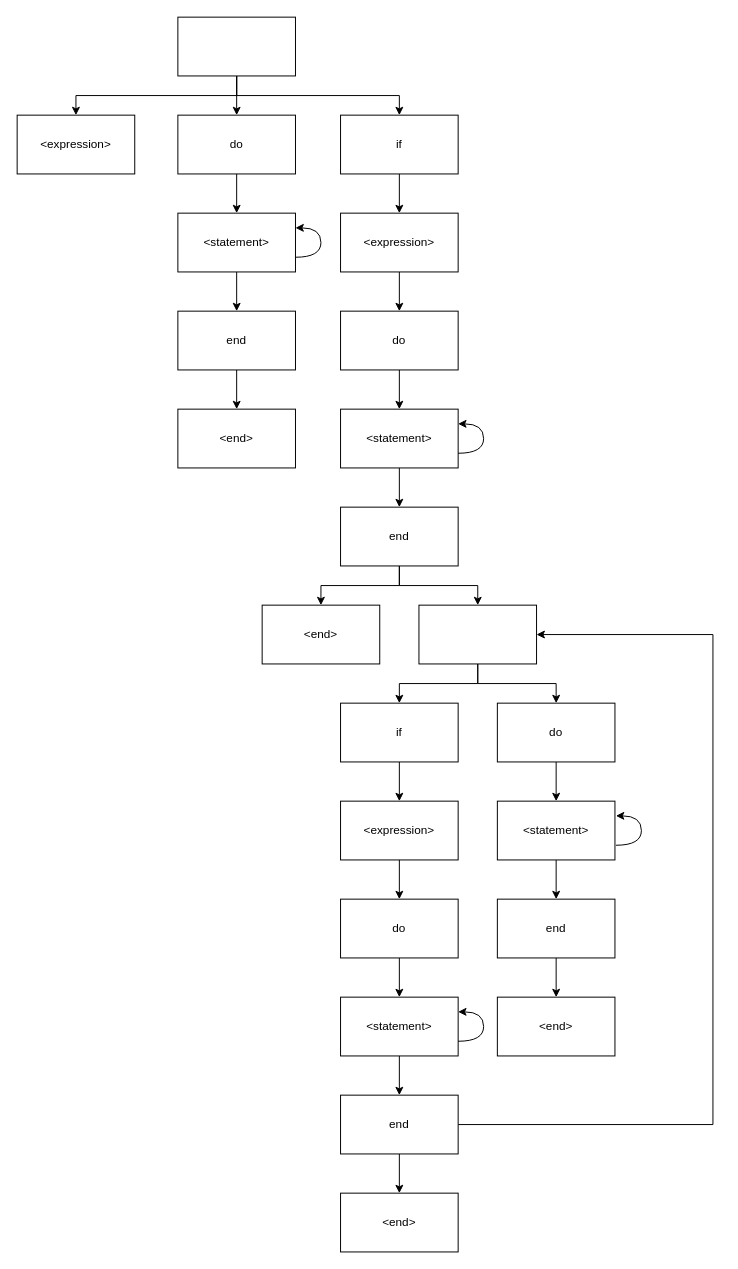
The diagram is 738 pixels wide and 1269 high, and some of its shapes have lost their labels. Here are the shapes that lost their labels. From the top down, the centre of each, then its label:
At point 236,46: "<start>".
At point 477,634: "else".
